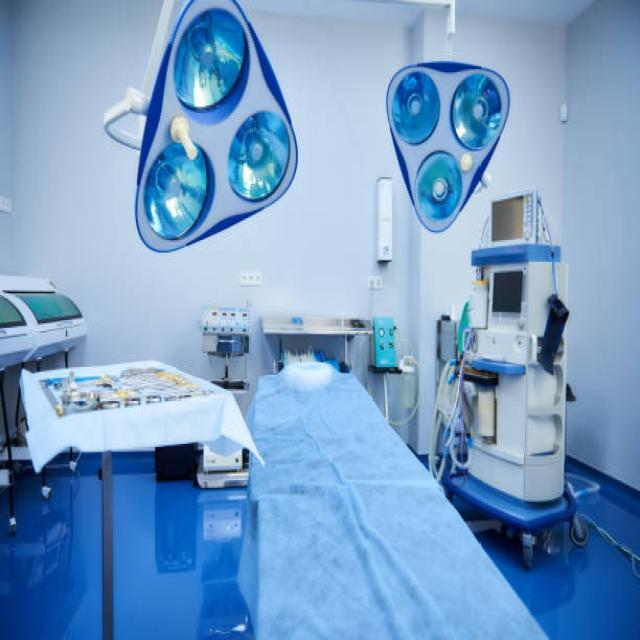Monitor: (15, 342, 258, 640), (479, 183, 542, 250), (484, 266, 527, 354)
bed: (240, 342, 552, 640)
